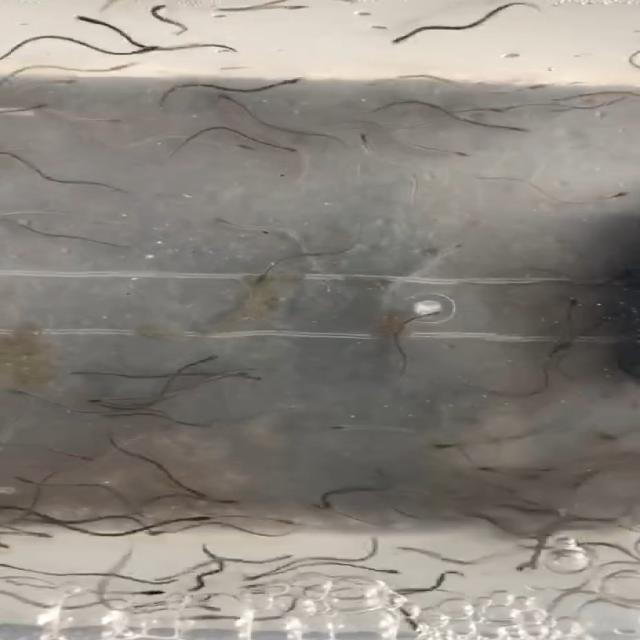active_glass_eel: (259, 139, 309, 159), (0, 380, 43, 403), (118, 580, 166, 600), (15, 97, 60, 117), (198, 489, 243, 509), (270, 0, 315, 18), (361, 562, 406, 580), (162, 514, 218, 528), (519, 78, 572, 92), (491, 117, 532, 135), (175, 609, 218, 626), (397, 616, 430, 638), (236, 566, 280, 582), (539, 338, 577, 356), (313, 494, 344, 516), (219, 370, 271, 383), (74, 12, 122, 26), (318, 418, 366, 432), (206, 214, 250, 229), (213, 136, 260, 150), (429, 441, 482, 453), (41, 76, 89, 89), (382, 30, 426, 44), (184, 483, 213, 504), (211, 96, 249, 112), (352, 132, 378, 155), (67, 450, 100, 468), (186, 354, 234, 366), (592, 189, 636, 202), (556, 297, 583, 318), (250, 268, 280, 286), (78, 114, 131, 124), (82, 392, 126, 404), (415, 306, 447, 322), (116, 44, 166, 54), (11, 471, 44, 486), (190, 599, 223, 614), (428, 148, 476, 158), (140, 0, 170, 15), (264, 76, 308, 86), (144, 527, 172, 542), (103, 59, 141, 70), (16, 530, 56, 540)
